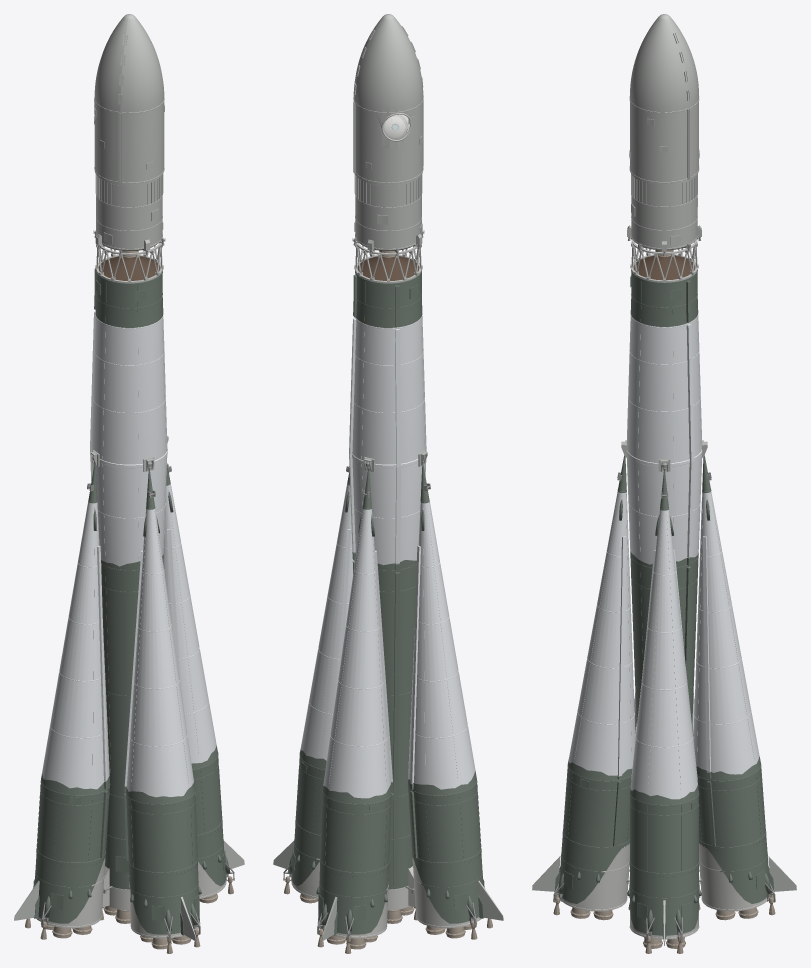
Rendered from vehicle.lod2.glb.
3 views of the same model, side by side, from view 1: azimuth 30°, elevation 25°; view 2: azimuth 150°, elevation 25°; view 3: azimuth 270°, elevation 25° (orthographic).
Parts seen in each view (by area): view 1: Core_Frost, Booster_D_Frost, Booster_G_Frost, Core_Skin, Booster_D_Skin, Booster_G_Skin, Fairing_Right_Fittings, Booster_B_Frost, BlockE_Fittings, Fairing_Left_Fittings, Booster_B_Skin, Interstage_Lattice (+6 smaller); view 2: Core_Frost, Booster_V_Frost, Booster_G_Frost, Core_Skin, Fairing_Left_Fittings, Booster_V_Skin, Booster_G_Skin, Booster_B_Frost, BlockE_Fittings, Booster_B_Skin, Core_Fittings, Interstage_Lattice (+6 smaller); view 3: Core_Frost, Booster_B_Frost, Booster_D_Frost, Booster_V_Frost, Booster_B_Skin, Fairing_Right_Fittings, Booster_V_Skin, Booster_D_Skin, Core_Skin, BlockE_Fittings, Booster_D_Shield, Booster_V_Shield (+6 smaller).
Boxes of the visible parts, x1,y1,x2,y2 form: Core_Frost: [90, 310, 167, 566]; Booster_D_Frost: [124, 508, 193, 797]; Booster_G_Frost: [42, 502, 109, 789]; Core_Skin: [95, 269, 163, 889]; Booster_D_Skin: [126, 470, 199, 934]; Booster_G_Skin: [34, 464, 110, 923]; Fairing_Right_Fittings: [120, 14, 164, 184]; Booster_B_Frost: [163, 484, 216, 763]; BlockE_Fittings: [95, 174, 163, 250]; Fairing_Left_Fittings: [94, 14, 129, 183]; Booster_B_Skin: [166, 463, 225, 886]; Interstage_Lattice: [95, 237, 163, 283]; Core_Frost: [349, 313, 426, 565]; Booster_V_Frost: [323, 508, 392, 798]; Booster_G_Frost: [408, 502, 475, 789]; Core_Skin: [355, 269, 422, 889]; Fairing_Left_Fittings: [354, 14, 423, 184]; Booster_V_Skin: [318, 470, 391, 934]; Booster_G_Skin: [407, 464, 483, 923]; Booster_B_Frost: [300, 484, 354, 760]; BlockE_Fittings: [354, 174, 422, 250]; Booster_B_Skin: [292, 472, 349, 886]; Core_Fittings: [352, 274, 418, 885]; Interstage_Lattice: [354, 237, 422, 283]; Core_Frost: [626, 314, 702, 564]; Booster_B_Frost: [630, 510, 697, 799]; Booster_D_Frost: [569, 491, 635, 776]; Booster_V_Frost: [693, 491, 759, 774]; Booster_B_Skin: [629, 471, 699, 935]; Fairing_Right_Fittings: [629, 14, 689, 184]; Booster_V_Skin: [696, 455, 769, 903]; Booster_D_Skin: [559, 455, 632, 903]; Core_Skin: [630, 269, 698, 726]; BlockE_Fittings: [631, 174, 697, 249]; Booster_D_Shield: [558, 843, 629, 911]; Booster_V_Shield: [699, 843, 770, 911].
Size of the model in its own units: 10.27 by 38.41 by 10.27.
